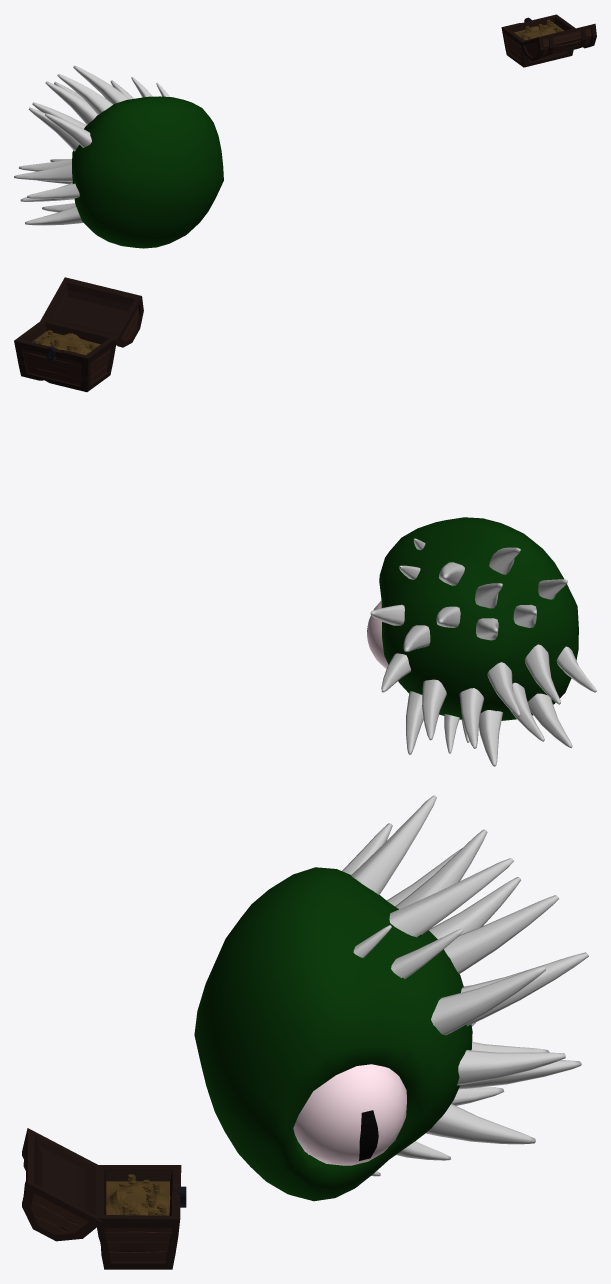
File: Chest_Gold.obj
3 views of the same model, one above another, from view 1: azimuth 30°, elevation 25°; view 2: azimuth 150°, elevation 25°; view 3: azimuth 270°, elevation 25° (orthographic). The views are drawn at different scales.
Visible parts, largest first — view 1: spiky, Chest_Gold; view 2: spiky, Chest_Gold; view 3: spiky, Chest_Gold.
Boxes of the visible parts, x1=… form: spiky: x1=14, y1=65, x2=223, y2=248; Chest_Gold: x1=501, y1=14, x2=596, y2=67; spiky: x1=367, y1=517, x2=596, y2=766; Chest_Gold: x1=14, y1=277, x2=143, y2=392; spiky: x1=194, y1=795, x2=588, y2=1201; Chest_Gold: x1=22, y1=1128, x2=186, y2=1269.
Size of the model in its own units: 9.98 by 3.66 by 5.11.
